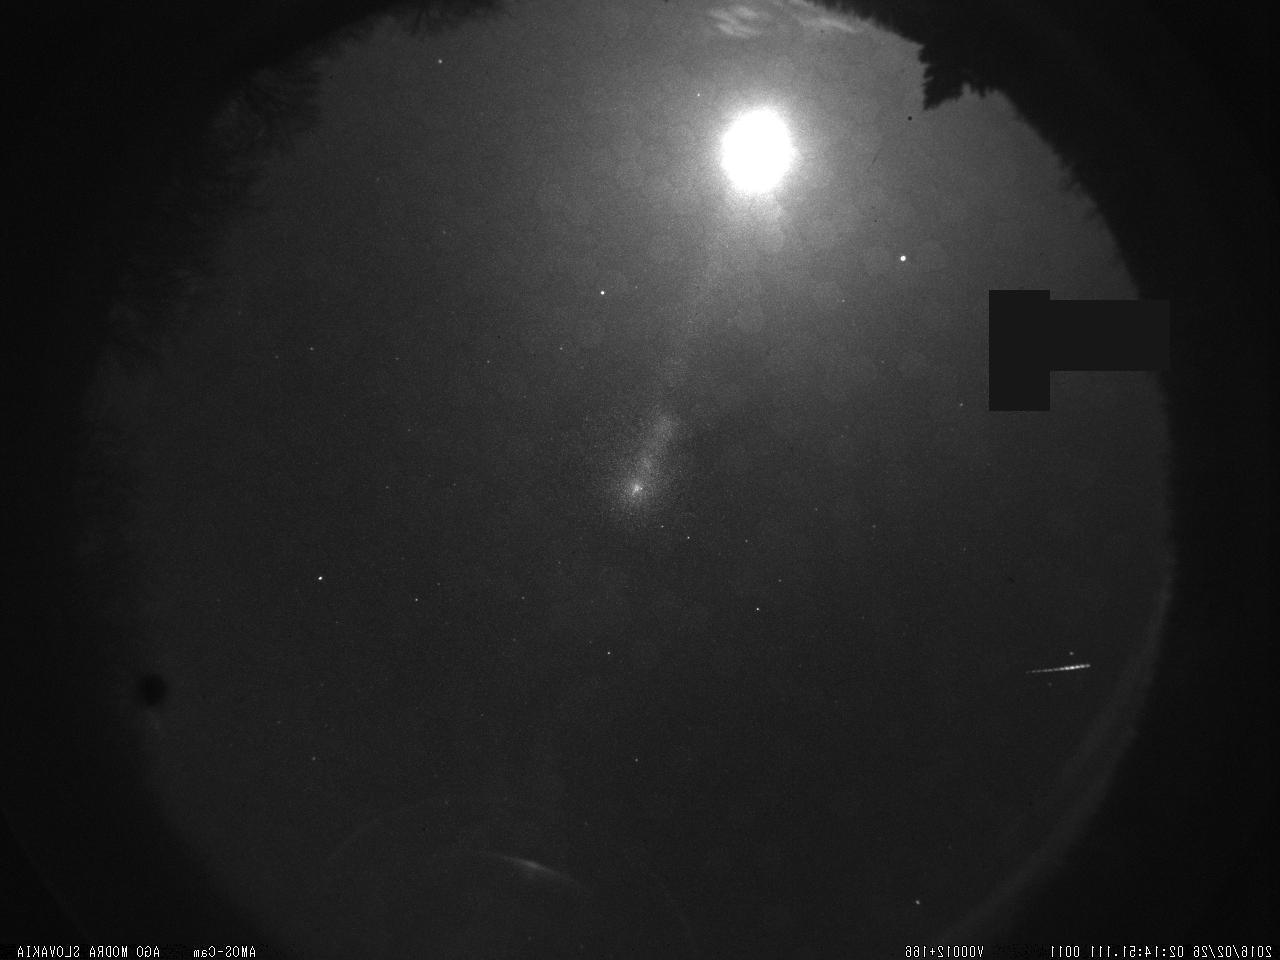meteor: (1011, 652, 1094, 686)
